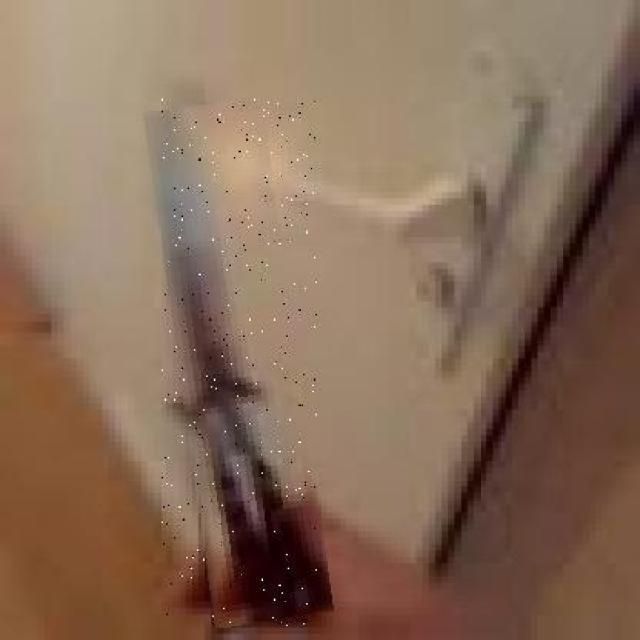knife: (161, 98, 317, 626)
